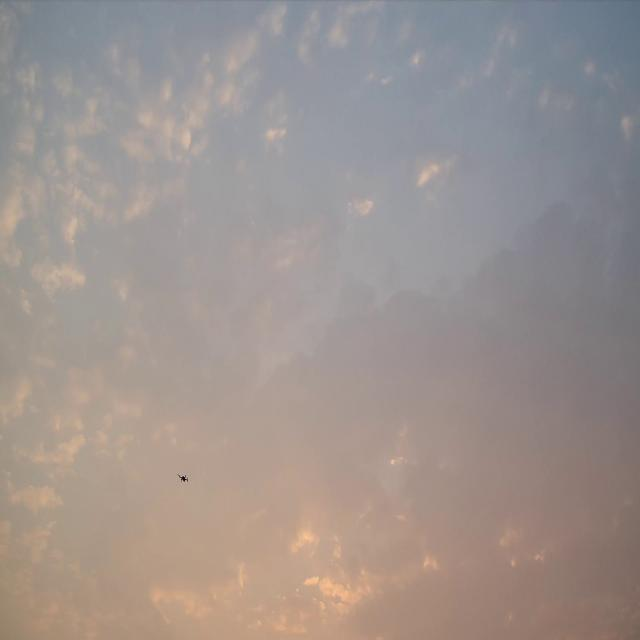UAV: (177, 473, 188, 482)
